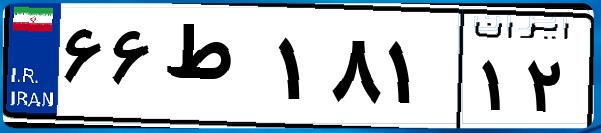1: (270, 28, 330, 110), (385, 28, 445, 110), (475, 38, 525, 113)
2: (525, 38, 570, 115)
6: (57, 26, 110, 100), (110, 28, 158, 98)
8: (330, 28, 385, 110)
ط: (158, 20, 270, 120)
